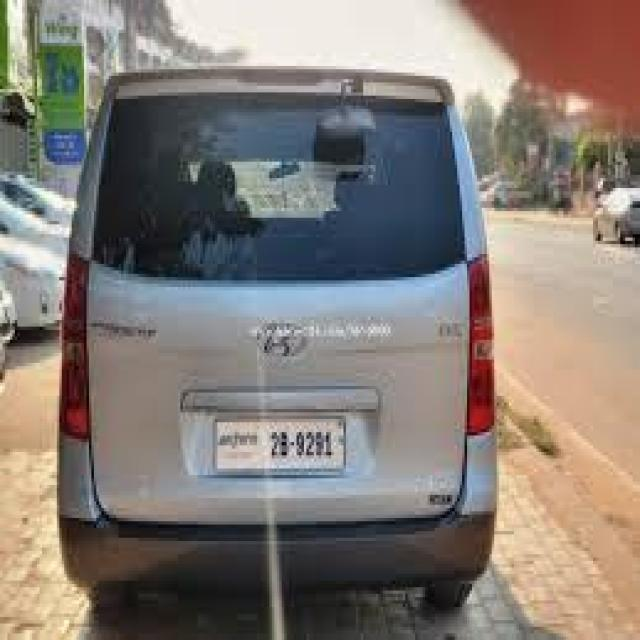Siem_Reap: (220, 432, 259, 452)
